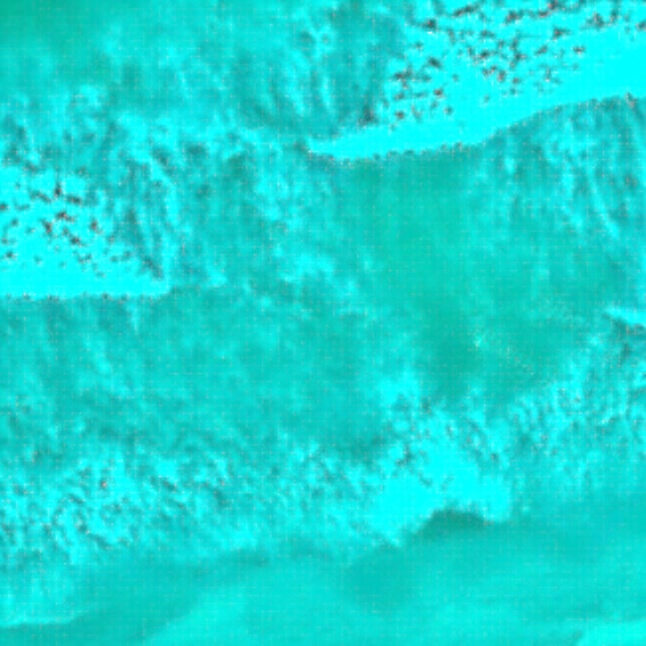rip_current: (88, 34, 413, 414)
